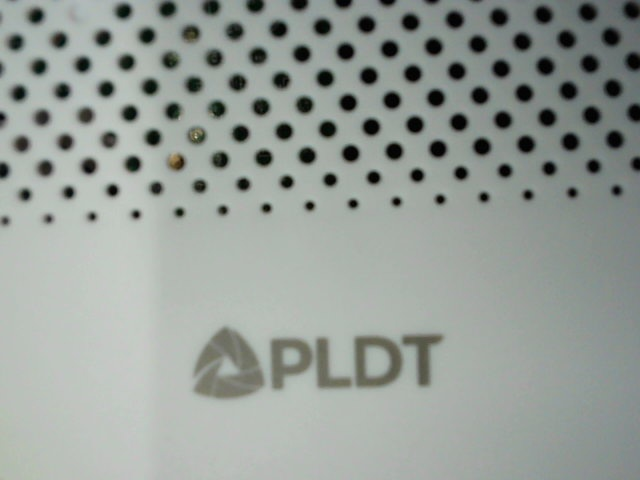BH_PLDT: (171, 312, 467, 425)
